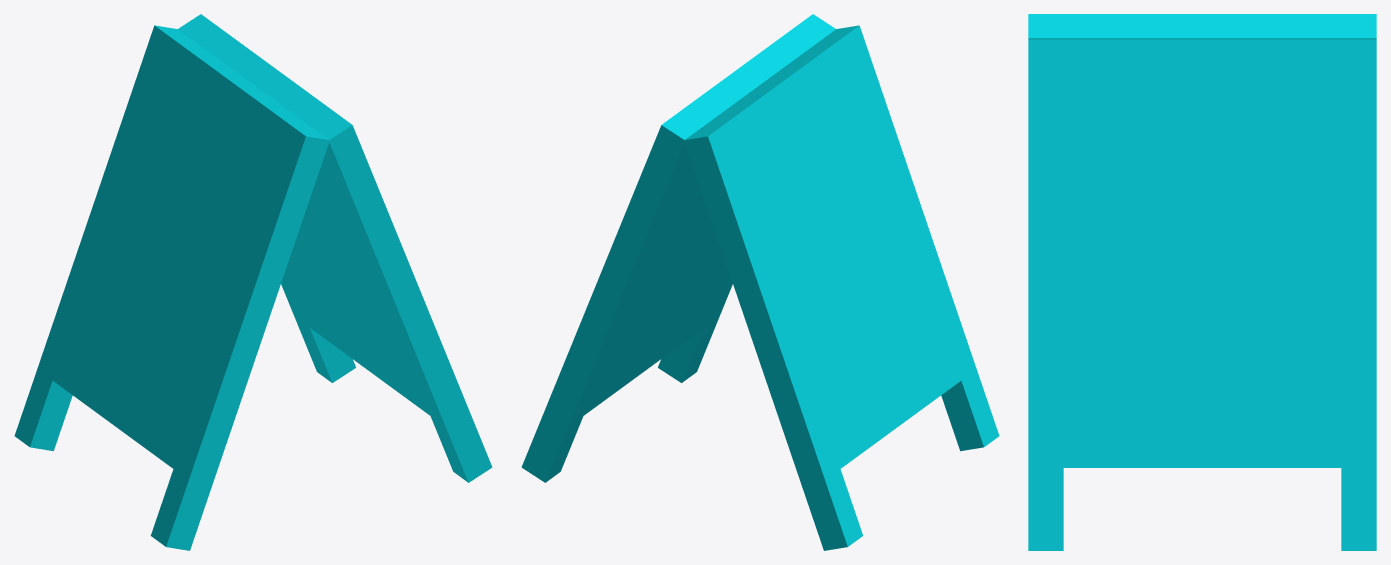
Rendered from Transenne.fbx.
3 renders of one model, left to right at view 1: azimuth 30°, elevation 25°; view 2: azimuth 150°, elevation 25°; view 3: azimuth 270°, elevation 25°, orthographic. The views are drawn at different scales.
Parts seen in each view (by area): view 1: transenne; view 2: transenne; view 3: transenne.
Boxes of the visible parts, left/top/right/bottom form: transenne: left=14, top=14, right=492, bottom=550; transenne: left=521, top=14, right=999, bottom=550; transenne: left=1028, top=14, right=1376, bottom=550.
Size of the model in its own units: 59.32 by 67.08 by 47.73.
